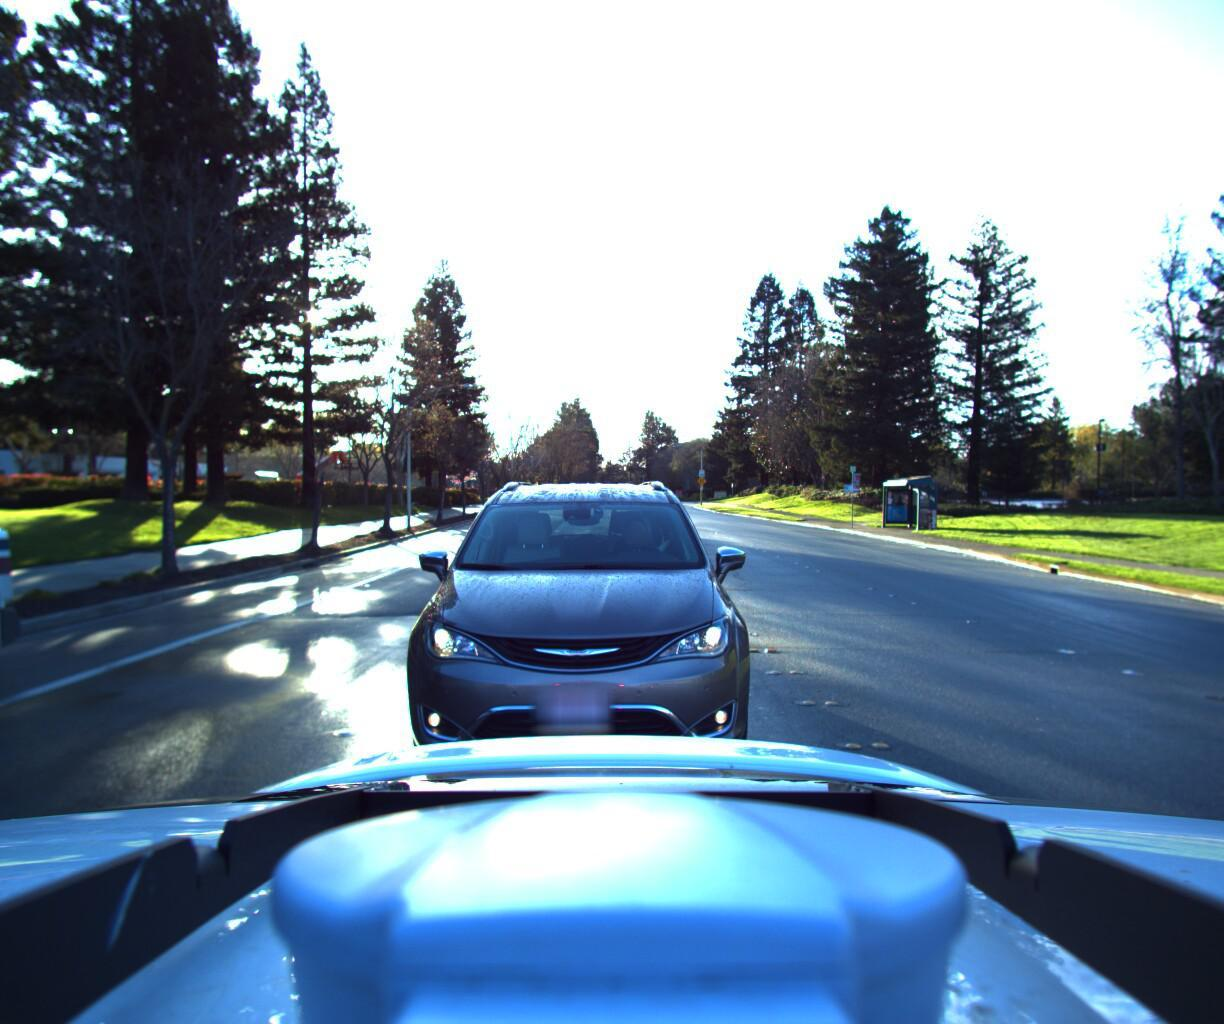car: (364, 456, 766, 827)
